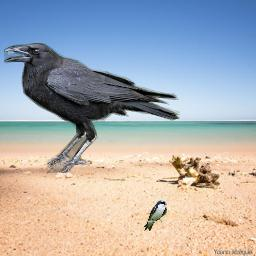Crow: (4, 43, 180, 173)
Swallow: (143, 200, 167, 231)
